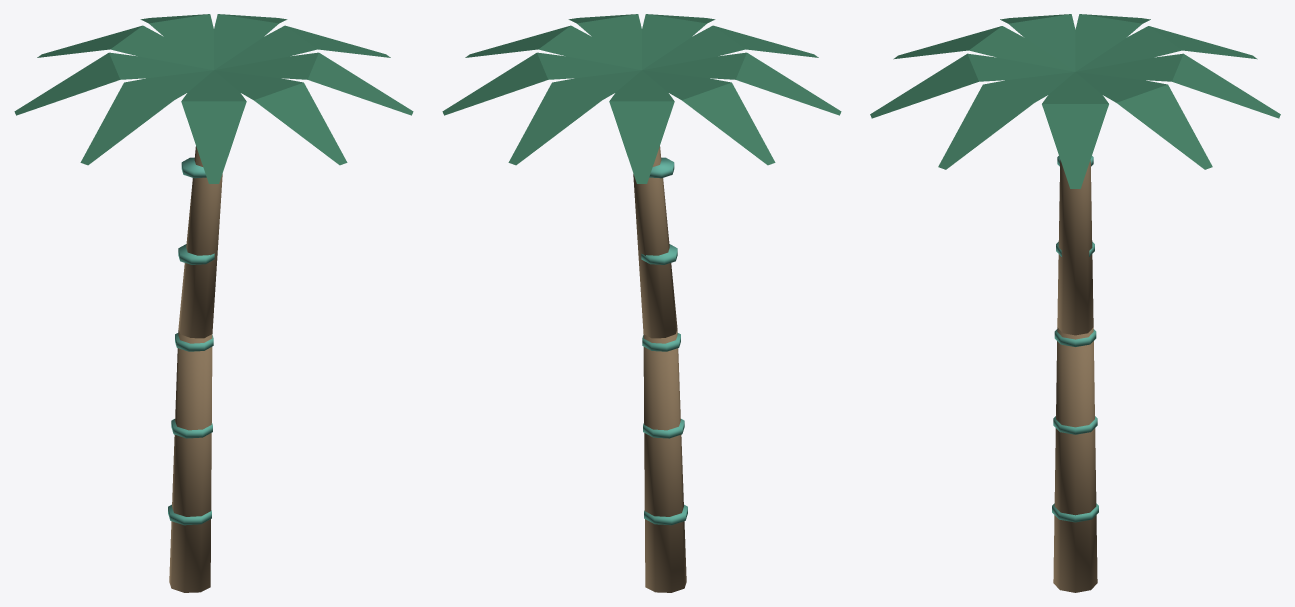
The model's file is oc_palm_01.glb.
The picture shows the model from 3 angles, left to right: view 1: azimuth 30°, elevation 25°; view 2: azimuth 150°, elevation 25°; view 3: azimuth 270°, elevation 25°; orthographic projection. The views are drawn at different scales.
Visible parts, largest first — view 1: LOD1_OC_Palm_Frond, LOD1_OC_Palm_Trunk, LOD1_OC_Deco_Mint; view 2: LOD1_OC_Palm_Frond, LOD1_OC_Palm_Trunk, LOD1_OC_Deco_Mint; view 3: LOD1_OC_Palm_Frond, LOD1_OC_Palm_Trunk, LOD1_OC_Deco_Mint.
Boxes of the visible parts, x1,y1,x2,y2 form: LOD1_OC_Palm_Frond: (14,14,413,183); LOD1_OC_Palm_Trunk: (169,146,222,592); LOD1_OC_Deco_Mint: (168,157,214,525); LOD1_OC_Palm_Frond: (442,14,841,183); LOD1_OC_Palm_Trunk: (633,146,686,592); LOD1_OC_Deco_Mint: (641,157,687,525); LOD1_OC_Palm_Frond: (870,14,1280,188); LOD1_OC_Palm_Trunk: (1053,160,1097,592); LOD1_OC_Deco_Mint: (1052,156,1098,522).
Size of the model in its own units: 3.12 by 4.55 by 3.17.
